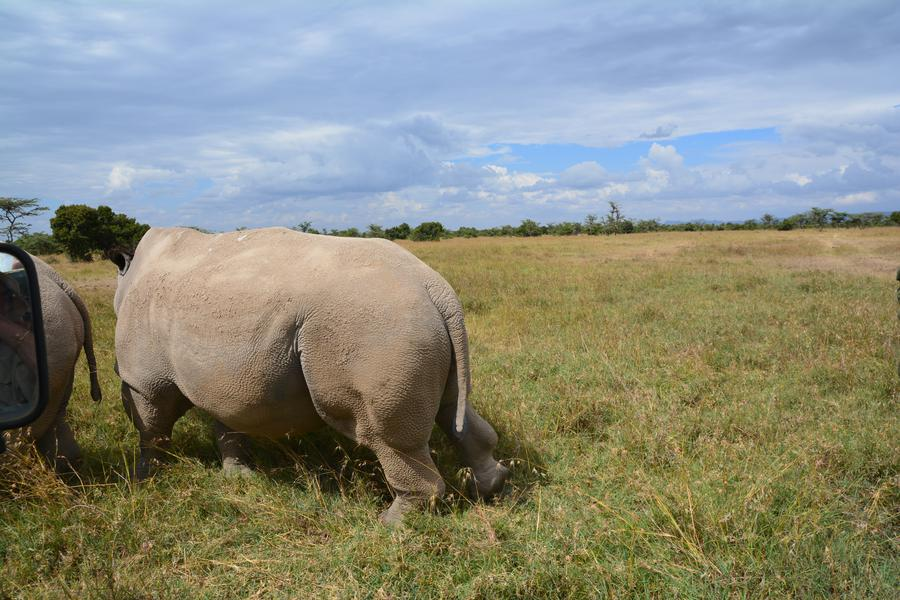rhino: (112, 227, 486, 481), (3, 237, 81, 460)
